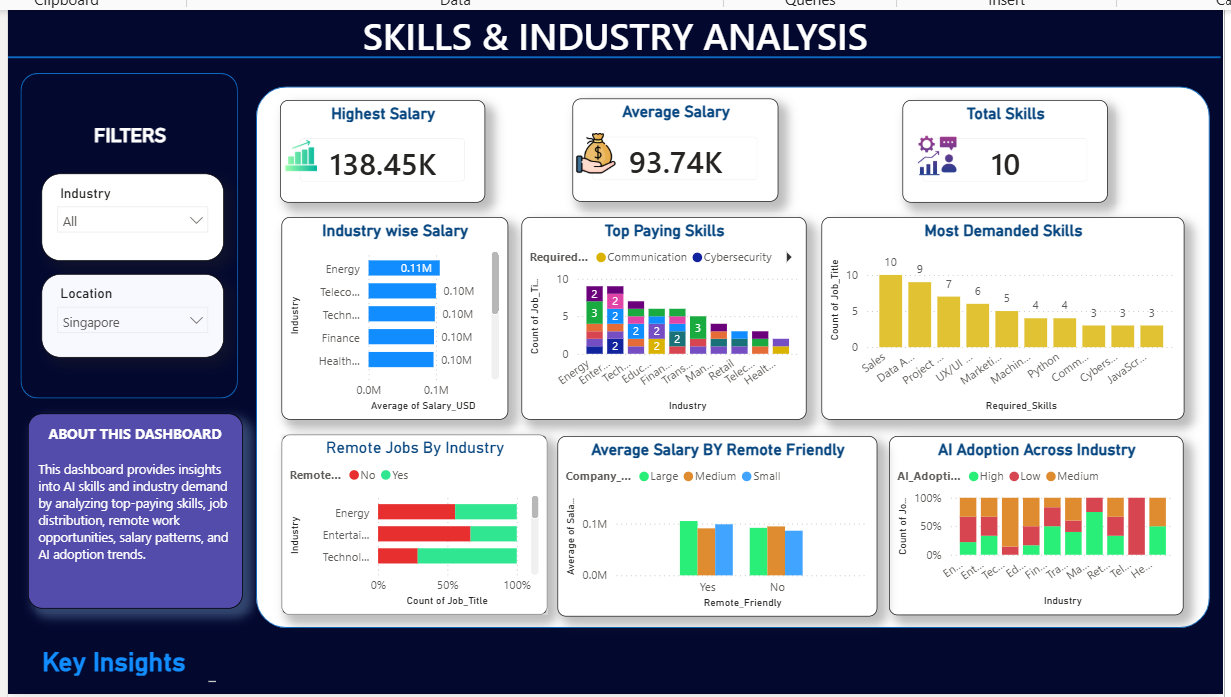

This screenshot's page, from the dashboard's own definition file:
{"tool":"powerbi","page":{"name":"SKills & Industry Analysis","canvas":[1280,720],"ordinal":2},"visuals":[{"type":"shape","box":[14.2,66.3,229,342.6],"z":0},{"type":"shape","box":[262,80,1004,570],"z":1000},{"type":"textbox","title":"SKILLS & INDUSTRY ANALYSIS","box":[0,0,1280.5,42.6],"z":2000},{"type":"slicer","fields":{"Values":["Sheet1.Industry"]},"box":[36,172,192,92],"z":3000},{"type":"slicer","fields":{"Values":["Sheet1.Location"]},"box":[36,278,192,88],"z":4000},{"type":"cardVisual","title":"Highest Salary","fields":{"Data":["Max(Sheet1.Salary_USD)"]},"box":[288,94,216,108],"z":5000},{"type":"cardVisual","title":"Average Salary","fields":{"Data":["Avg(Sheet1.Salary_USD)"]},"box":[595,93.3,216.7,108.3],"z":6000},{"type":"cardVisual","title":"Total Skills","fields":{"Data":["Count(Sheet1.Required_Skills)"]},"box":[942,94,216,108],"z":7000},{"type":"clusteredBarChart","title":"Industry wise Salary","fields":{"Y":["Avg(Sheet1.Salary_USD)"],"Category":["Sheet1.Industry"]},"box":[288.3,218.3,238.3,213.3],"z":8000},{"type":"columnChart","title":"Top Paying Skills","fields":{"Category":["Sheet1.Industry"],"Y":["CountNonNull(Sheet1.Job_Title)"],"Series":["Sheet1.Required_Skills"]},"box":[541.7,218.3,300,213.3],"z":9000},{"type":"clusteredColumnChart","title":"Most Demanded Skills","fields":{"Category":["Sheet1.Required_Skills"],"Y":["CountNonNull(Sheet1.Job_Title)"]},"box":[856.7,218.3,381.7,213.3],"z":10000},{"type":"hundredPercentStackedBarChart","title":"Remote Jobs By Industry","fields":{"Category":["Sheet1.Industry"],"Series":["Sheet1.Remote_Friendly"],"Y":["CountNonNull(Sheet1.Job_Title)"]},"box":[288.3,446.7,280,190],"z":11000},{"type":"hundredPercentStackedColumnChart","title":"AI Adoption Across Industry","fields":{"Category":["Sheet1.Industry"],"Y":["CountNonNull(Sheet1.Job_Title)"],"Series":["Sheet1.AI_Adoption_Level"]},"box":[928.3,448.3,310,188.3],"z":12000},{"type":"clusteredColumnChart","title":"Average Salary BY  Remote Friendly","fields":{"Y":["Avg(Sheet1.Salary_USD)"],"Category":["Sheet1.Remote_Friendly"],"Series":["Sheet1.Company_Size"]},"box":[580,448.3,336.7,190],"z":13000},{"type":"textbox","title":"Key Insights","box":[0,670,225,43.3],"z":14000},{"type":"textbox","box":[22.1,424.7,225.8,205.3],"z":15000},{"type":"image","box":[956.9,129.5,44.2,47.4],"z":16000},{"type":"shape","box":[0,4.7,1277.4,90],"z":17000},{"type":"textbox","title":"FILTERS","box":[33.2,120,192.6,28.4],"z":18000},{"type":"image","box":[287.4,134.2,44.2,37.9],"z":19000},{"type":"image","box":[595.3,129.5,48.9,42.6],"z":20000}]}

Visuals, with their boxes on the page's 1280x720 design canvas (x1, y1, x2, y2). These are canvas units, not pixel positions in the 1231x697 screenshot, which may show the page scaled, cropped or inside an application window:
shape: box=[14, 66, 243, 409]
shape: box=[262, 80, 1266, 650]
"SKILLS & INDUSTRY ANALYSIS" textbox: box=[0, 0, 1280, 43]
slicer - Sheet1.Industry: box=[36, 172, 228, 264]
slicer - Sheet1.Location: box=[36, 278, 228, 366]
"Highest Salary" cardVisual: box=[288, 94, 504, 202]
"Average Salary" cardVisual: box=[595, 93, 812, 202]
"Total Skills" cardVisual: box=[942, 94, 1158, 202]
"Industry wise Salary" clusteredBarChart: box=[288, 218, 527, 432]
"Top Paying Skills" columnChart: box=[542, 218, 842, 432]
"Most Demanded Skills" clusteredColumnChart: box=[857, 218, 1238, 432]
"Remote Jobs By Industry" hundredPercentStackedBarChart: box=[288, 447, 568, 637]
"AI Adoption Across Industry" hundredPercentStackedColumnChart: box=[928, 448, 1238, 637]
"Average Salary BY  Remote Friendly" clusteredColumnChart: box=[580, 448, 917, 638]
"Key Insights" textbox: box=[0, 670, 225, 713]
textbox: box=[22, 425, 248, 630]
image: box=[957, 130, 1001, 177]
shape: box=[0, 5, 1277, 95]
"FILTERS" textbox: box=[33, 120, 226, 148]
image: box=[287, 134, 332, 172]
image: box=[595, 130, 644, 172]
